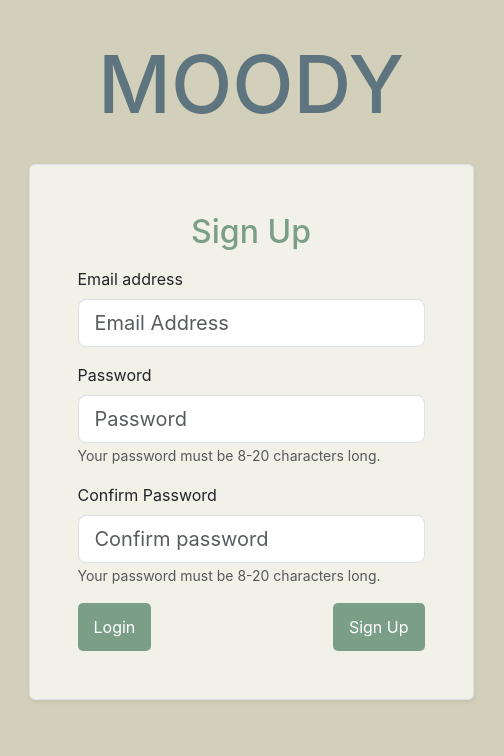
SignUp Component › shows invalid feedback when the email is not provided
This screenshot has width=504, height=756.
Note: Attempt to submit the form without filling out the email
Click the button "Sign Up".
click(379, 627)  # box [333,603,424,651]
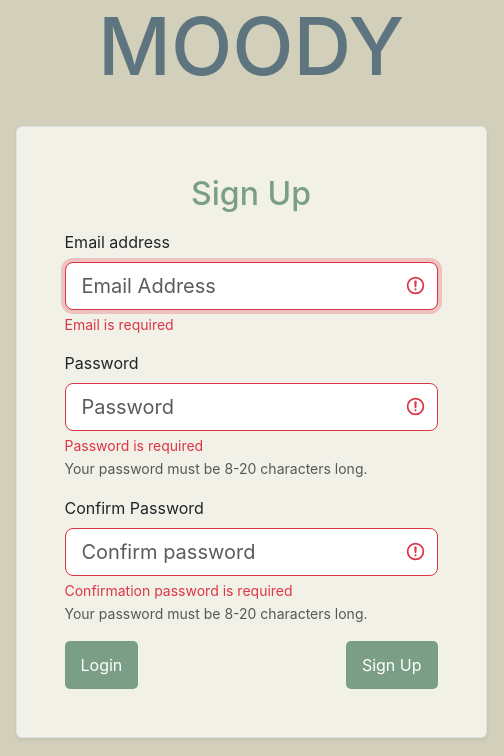
expect the text "Email is required" is shown: met, box [64,316,174,333]
